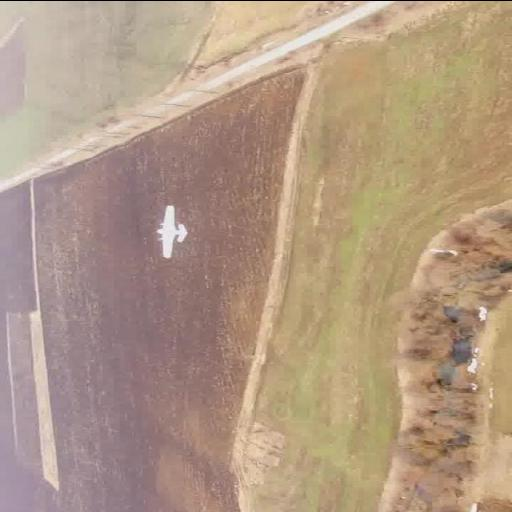uav: (143, 200, 199, 258)
